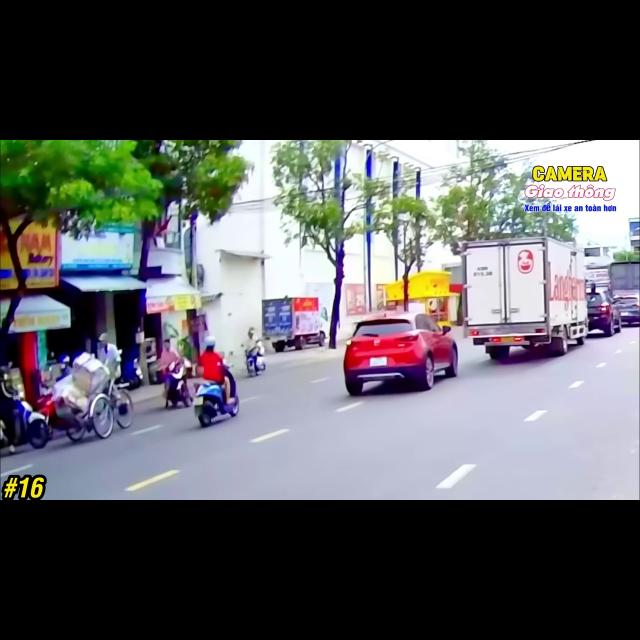car: (344, 312, 457, 395), (586, 290, 621, 336), (614, 294, 639, 324)
motorcycle: (194, 363, 239, 427), (6, 388, 49, 448), (15, 398, 50, 448), (165, 362, 191, 407), (117, 358, 143, 390), (245, 350, 265, 376)
truck: (461, 237, 587, 359), (262, 297, 327, 352), (608, 261, 639, 296)
